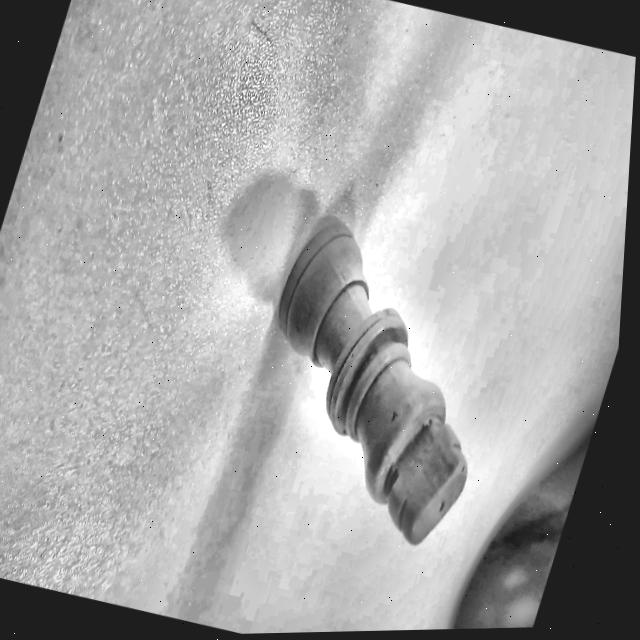white-king: (148, 133, 578, 631)
